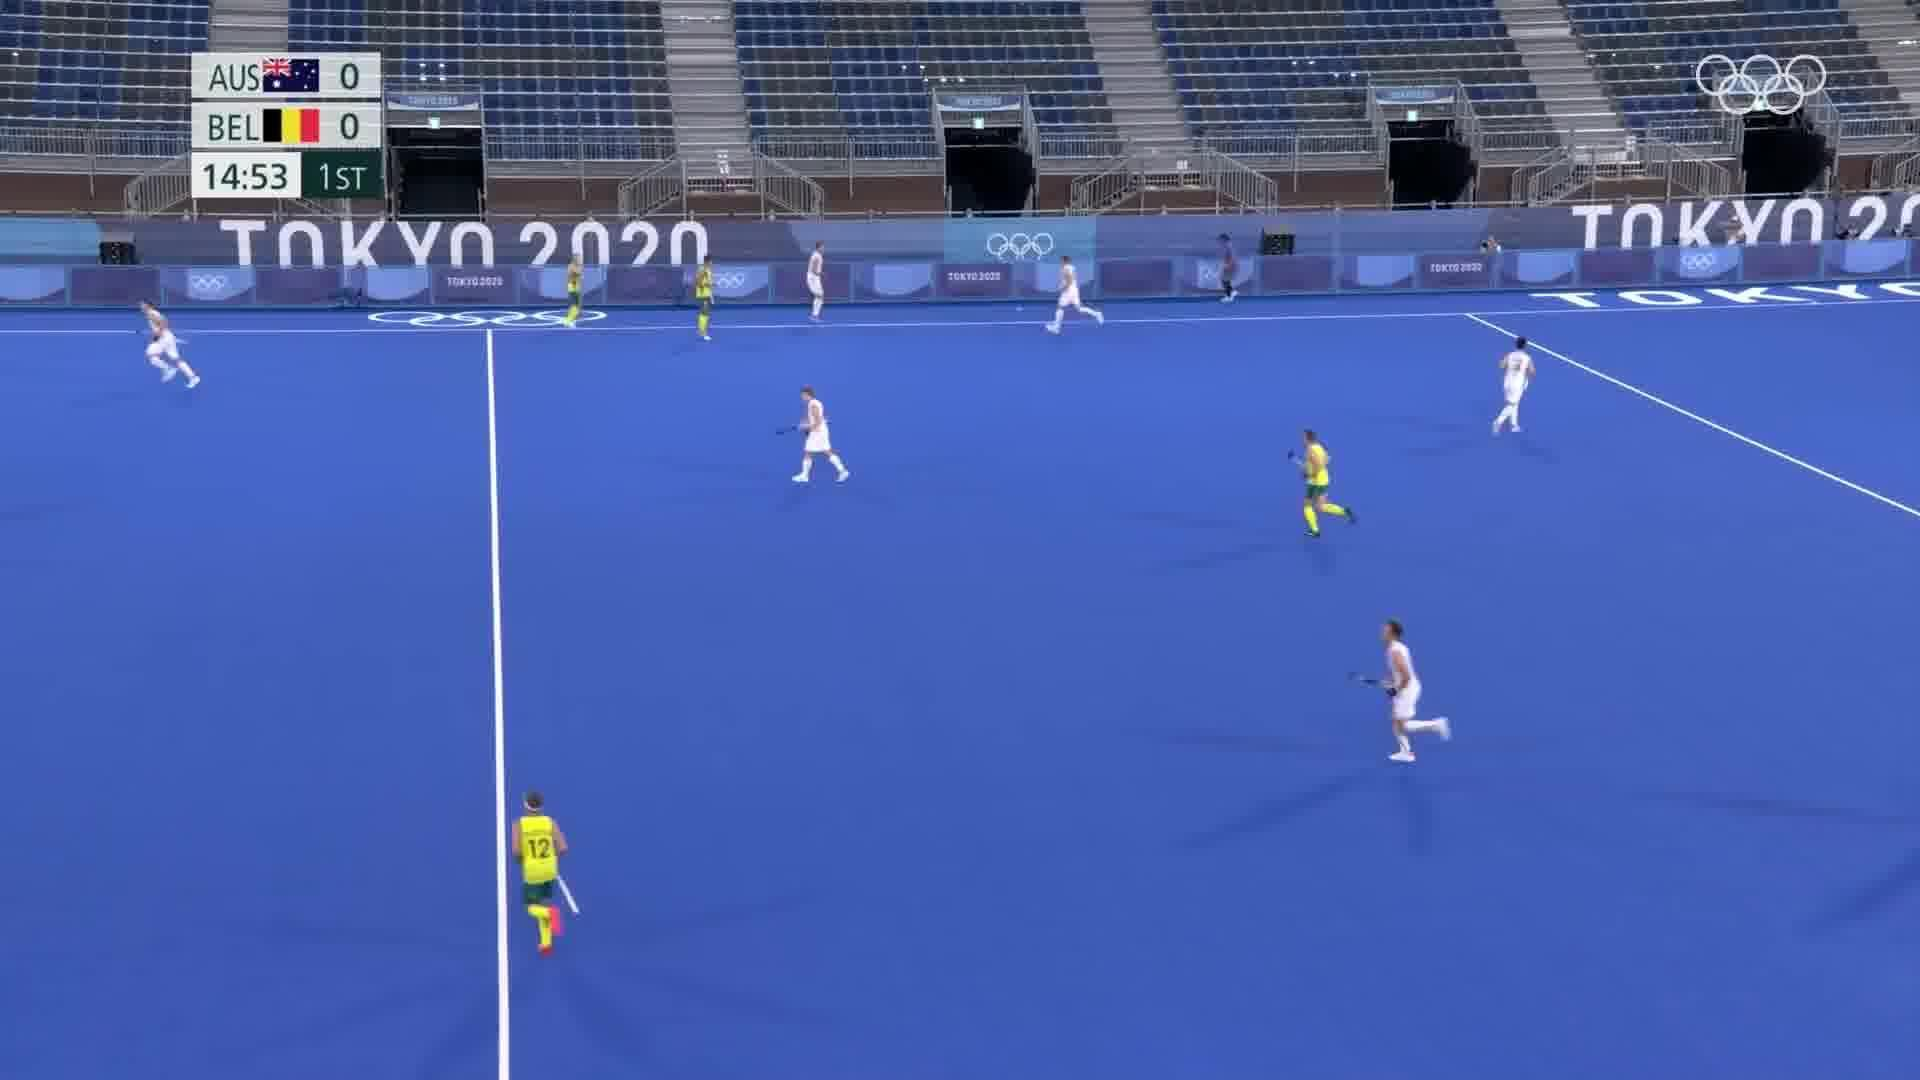ball: (1005, 302, 1036, 315)
